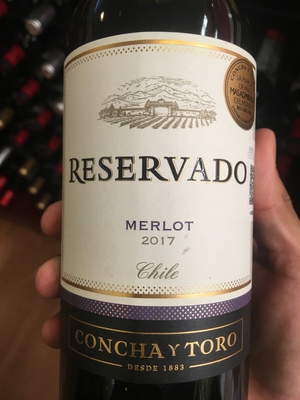reservado merlot: (53, 17, 277, 400)
